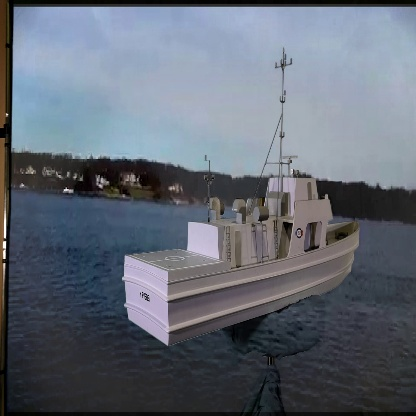YP689: (114, 42, 362, 351)
